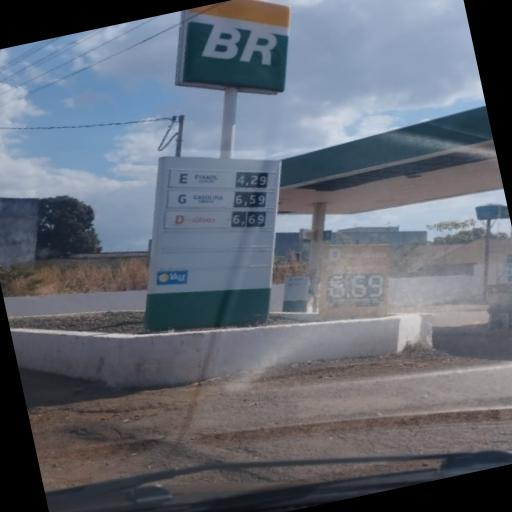ETANOL: (170, 169, 232, 185)
GASOLINA C: (169, 191, 231, 206)
S10: (165, 211, 229, 226)
placa: (150, 156, 279, 264)
preco: (230, 211, 266, 226), (236, 172, 268, 187), (234, 191, 266, 206)
